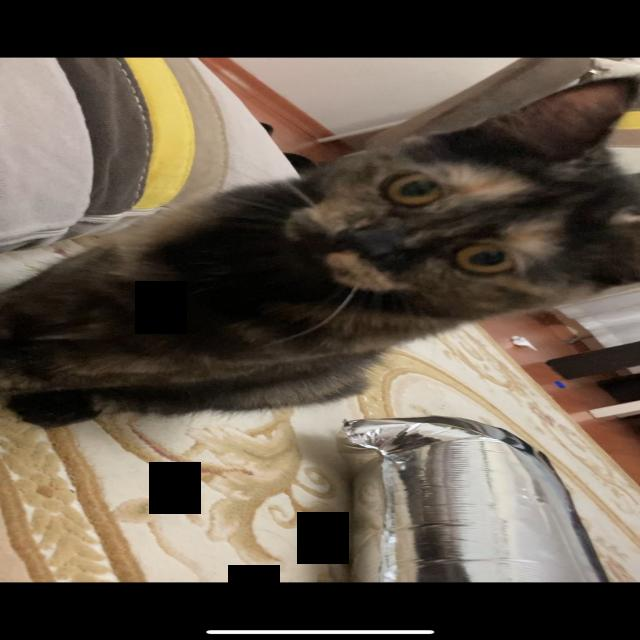authorized: (1, 74, 638, 428)
